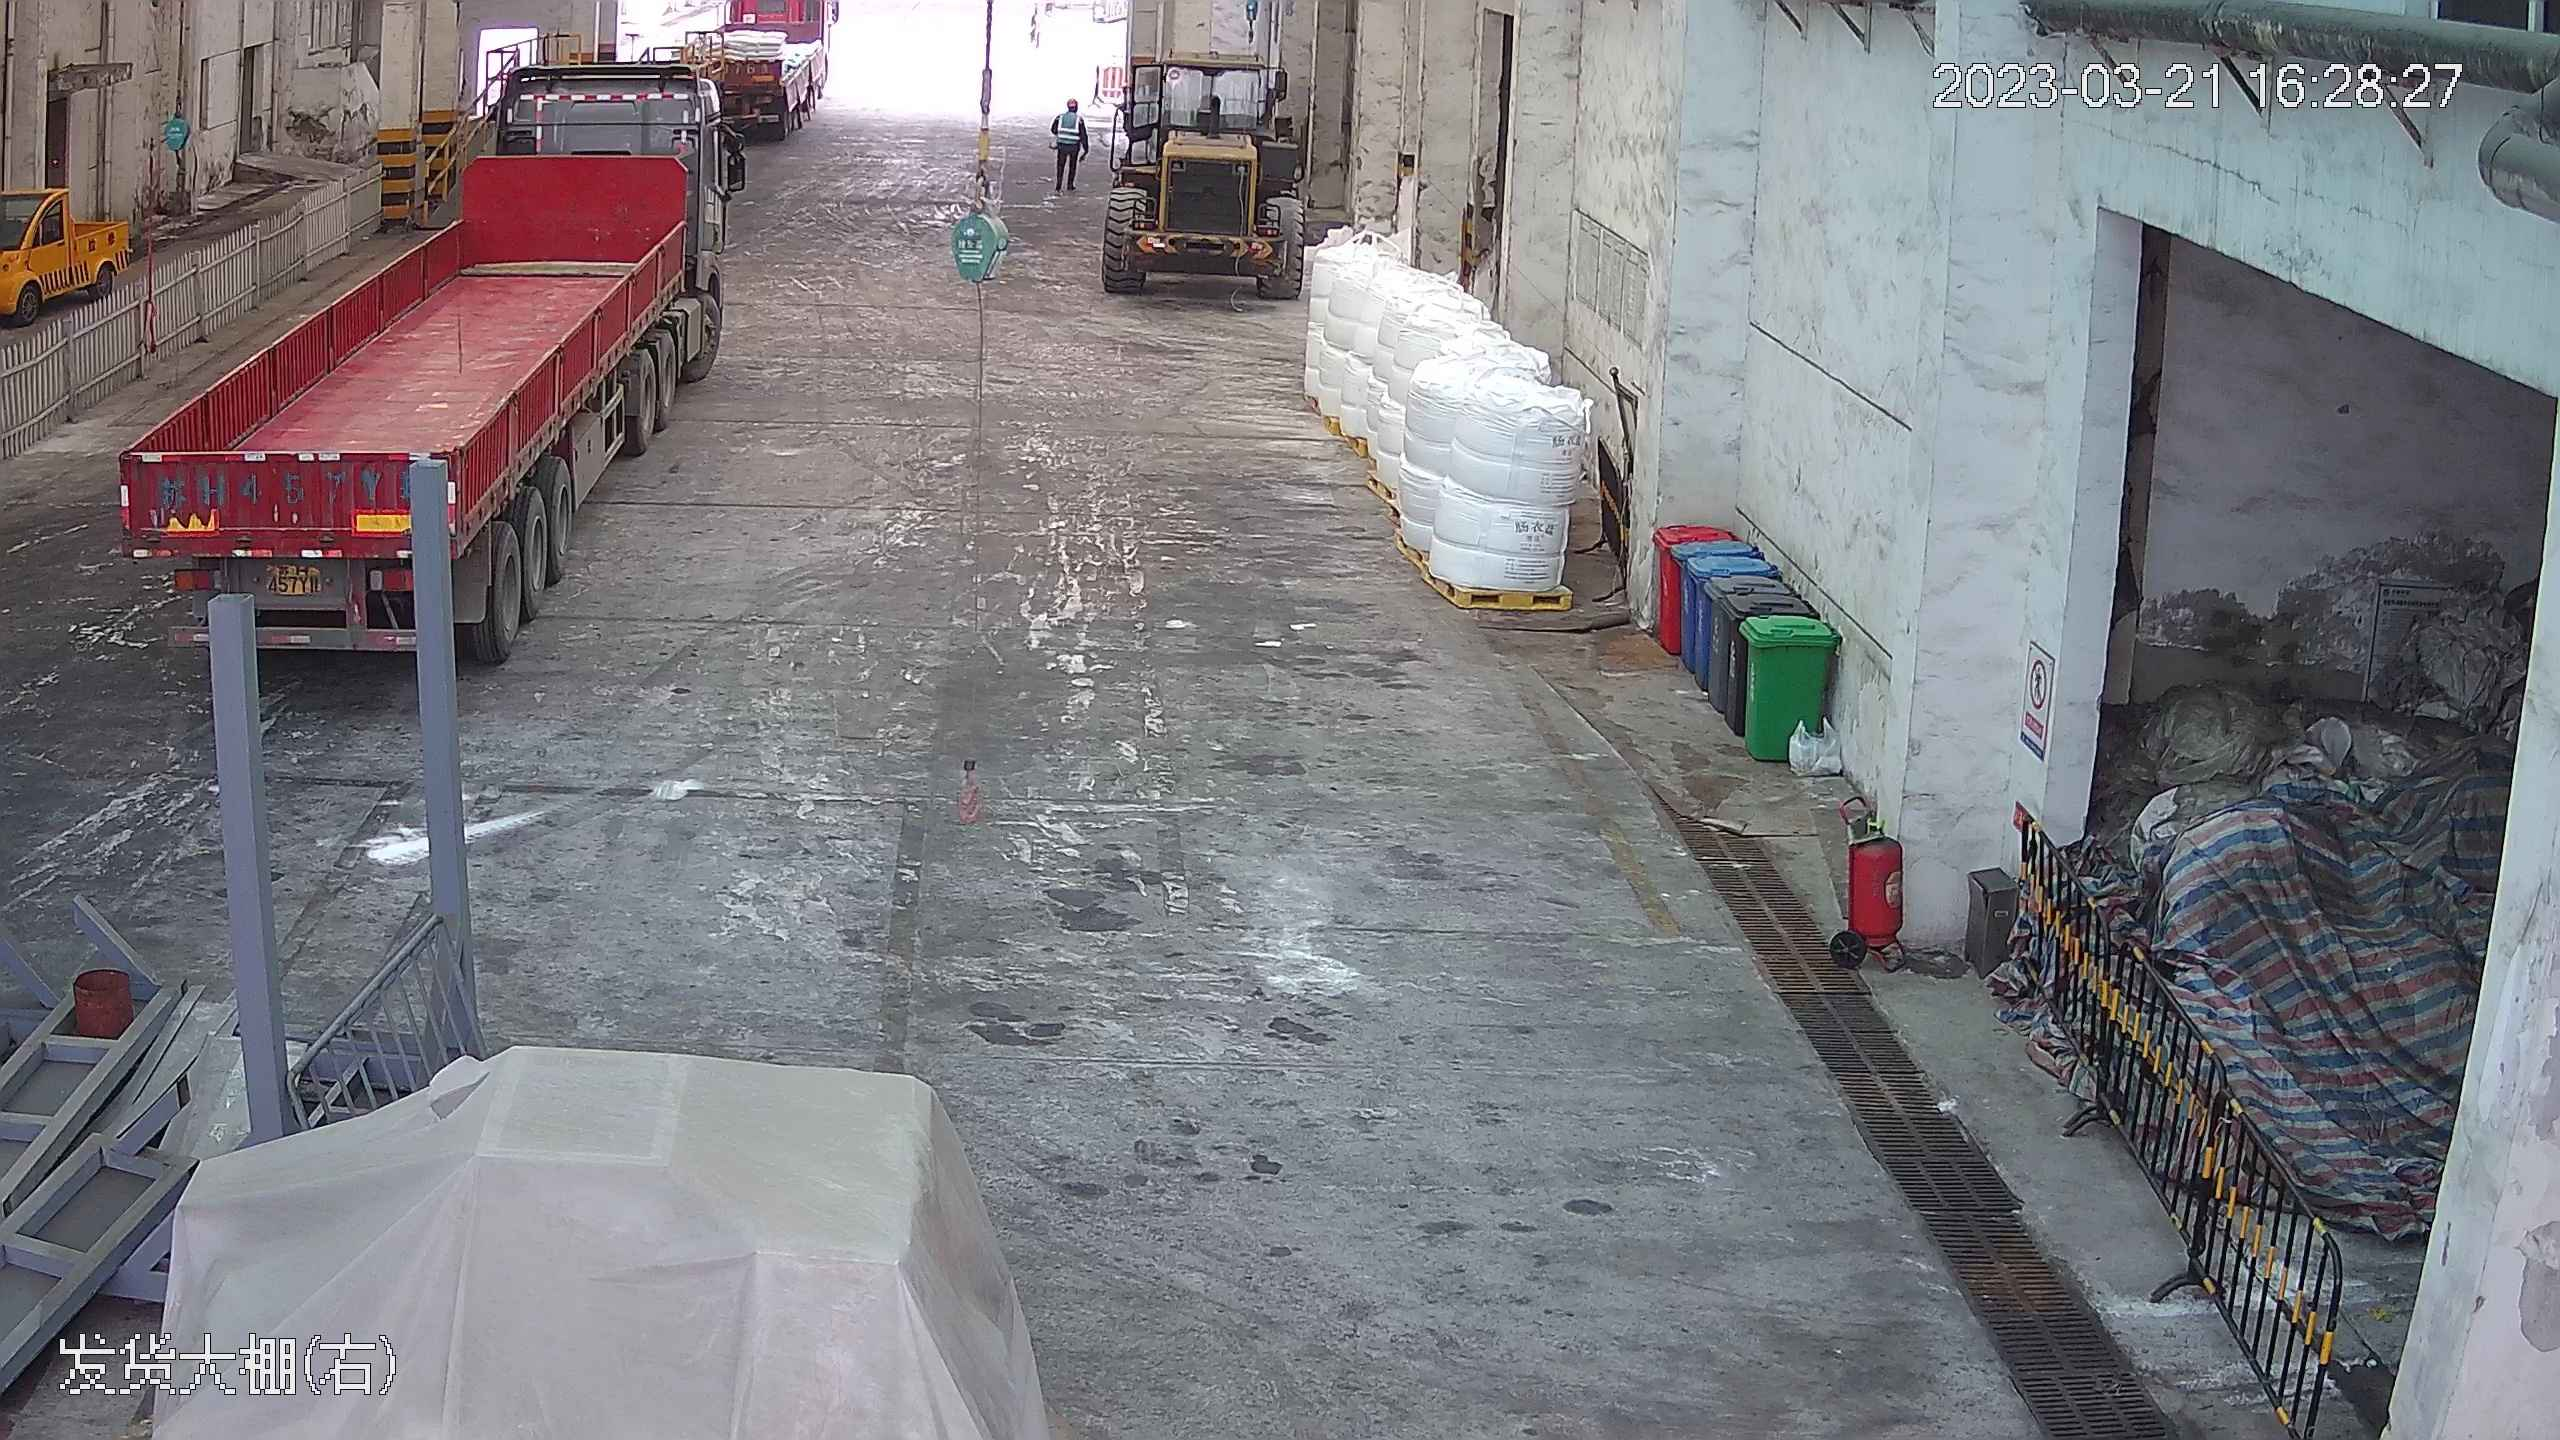head: (1058, 95, 1082, 125)
helmet: (1066, 97, 1079, 109)
people: (1049, 90, 1088, 189)
truck: (107, 20, 732, 667)
